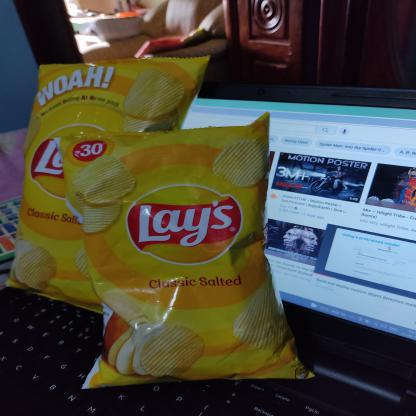classicsalted: (58, 111, 317, 392), (0, 52, 57, 316), (26, 55, 216, 126), (5, 205, 88, 312), (18, 125, 54, 205)
